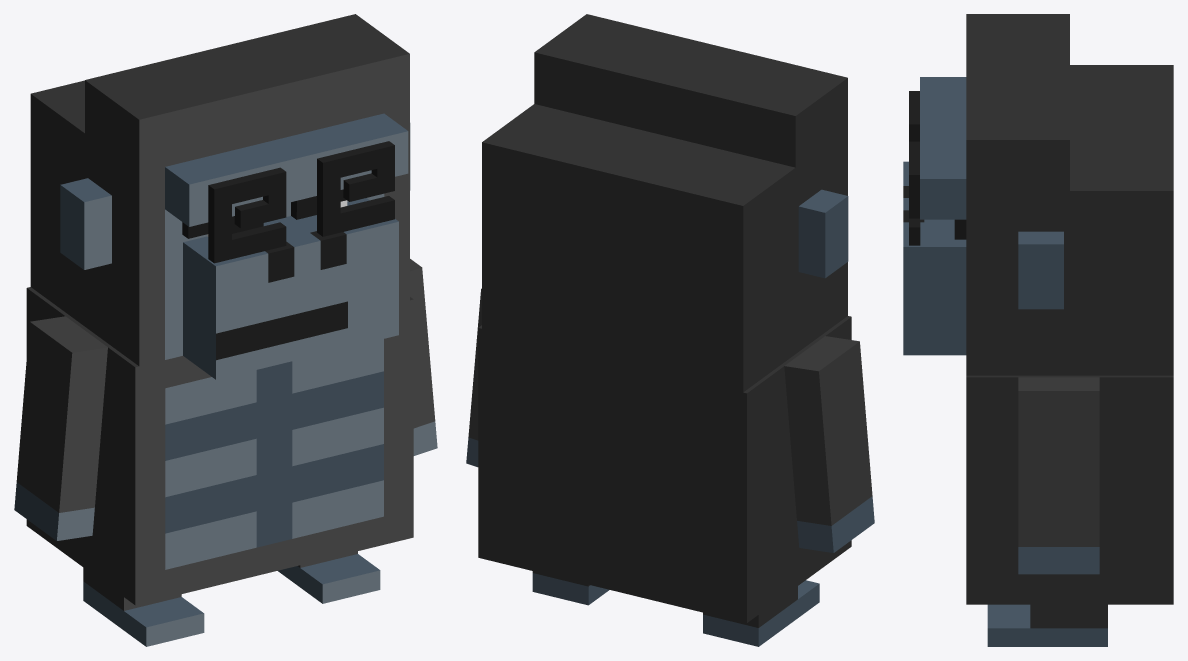
3 renders of one model, left to right at view 1: azimuth 30°, elevation 25°; view 2: azimuth 150°, elevation 25°; view 3: azimuth 270°, elevation 25°, orthographic. The views are drawn at different scales.
Parts seen in each view (by area): view 1: Ch_10_Head, Ch_10, Ch_10_Hand_L, Ch_10_Eye_03_L, Ch_10_Eye_03_R, Ch_10_Leg_L, Ch_10_Hand_R, Ch_10_Leg_R, Ch_10_Eye_02; view 2: Ch_10_Head, Ch_10, Ch_10_Hand_L, Ch_10_Leg_L, Ch_10_Leg_R, Ch_10_Hand_R; view 3: Ch_10_Head, Ch_10, Ch_10_Hand_R, Ch_10_Leg_R, Ch_10_Eye_03_R, Ch_10_Eye_03_L.
Boxes of the visible parts, x1,y1,x2,y2 form: Ch_10_Head: [30, 14, 410, 379]; Ch_10: [26, 287, 413, 605]; Ch_10_Hand_L: [14, 316, 107, 540]; Ch_10_Eye_03_L: [208, 167, 286, 263]; Ch_10_Eye_03_R: [317, 141, 394, 236]; Ch_10_Leg_L: [83, 567, 204, 646]; Ch_10_Hand_R: [410, 259, 437, 455]; Ch_10_Leg_R: [278, 551, 380, 603]; Ch_10_Eye_02: [182, 189, 346, 238]; Ch_10_Head: [482, 14, 848, 392]; Ch_10: [478, 316, 851, 623]; Ch_10_Hand_L: [784, 336, 874, 552]; Ch_10_Leg_L: [703, 580, 819, 646]; Ch_10_Leg_R: [532, 571, 609, 605]; Ch_10_Hand_R: [466, 288, 481, 467]; Ch_10_Head: [903, 14, 1173, 375]; Ch_10: [966, 375, 1173, 604]; Ch_10_Hand_R: [1018, 377, 1099, 574]; Ch_10_Leg_R: [987, 604, 1107, 646]; Ch_10_Eye_03_R: [909, 141, 920, 245]; Ch_10_Eye_03_L: [909, 91, 919, 141].
Bounding box in the file's own units: 8.83 × 11.96 × 5.68.
